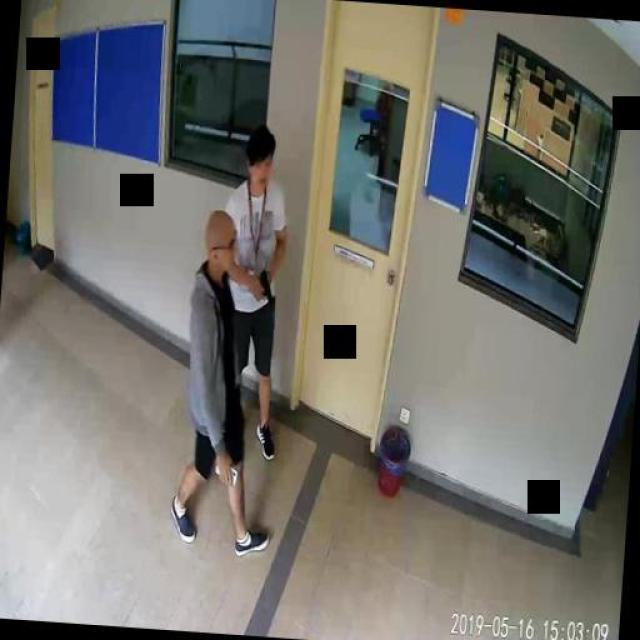gun: (256, 269, 274, 305)
